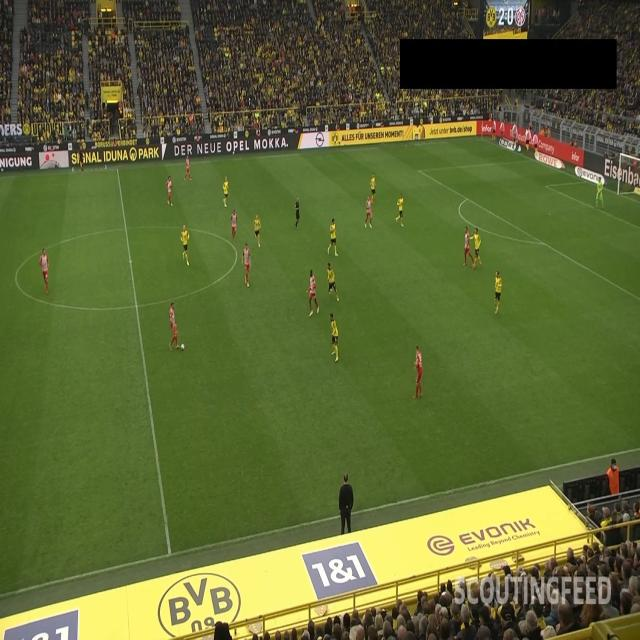ball: (180, 343, 185, 351)
